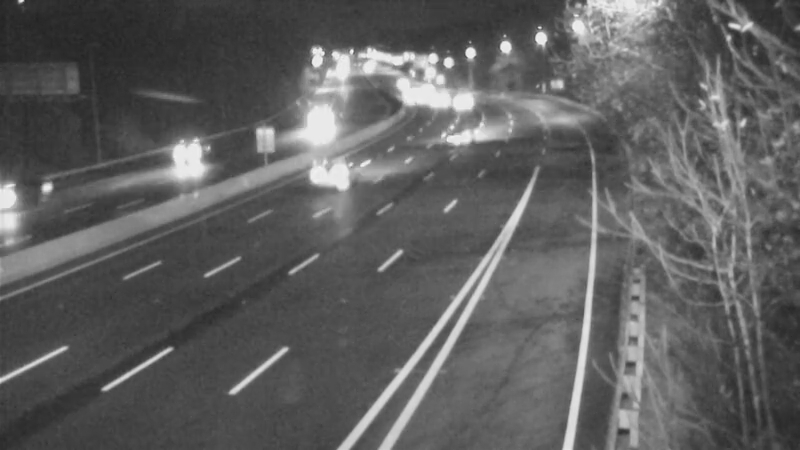vehicle: (282, 131, 362, 211), (163, 116, 243, 196), (1, 152, 76, 232), (408, 69, 458, 119), (433, 75, 483, 125), (434, 105, 484, 155), (279, 106, 329, 156)
